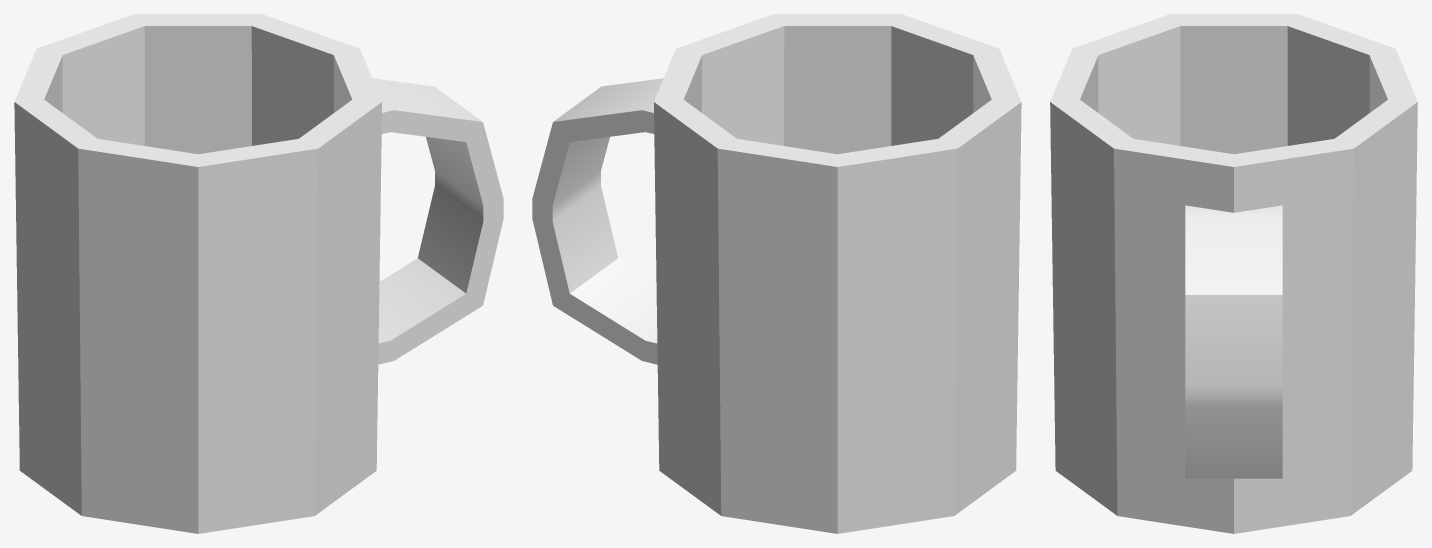
File: SM_cup_02.fbx
The picture shows the model from 3 angles, left to right: view 1: azimuth 30°, elevation 25°; view 2: azimuth 150°, elevation 25°; view 3: azimuth 270°, elevation 25°; orthographic projection.
Parts seen in each view (by area): view 1: Line001; view 2: Line001; view 3: Line001.
Part boxes in pixels (x1,y1,x2,y2): Line001: [14, 14, 503, 533]; Line001: [532, 14, 1021, 533]; Line001: [1050, 14, 1417, 533].
Bounding box in the file's own units: 7.63 × 6.22 × 5.61.
